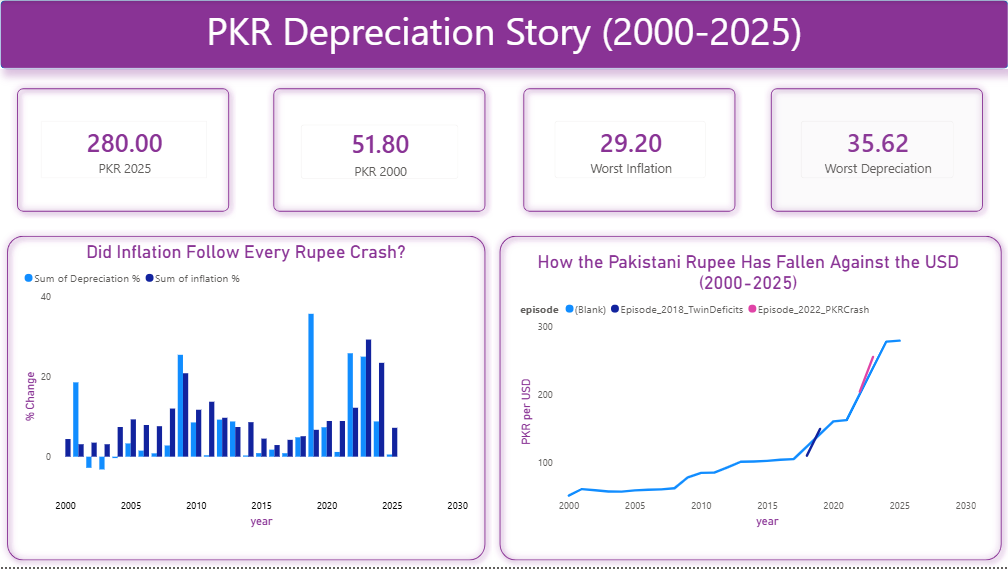

The page's visual inventory and layout, read from the dashboard file:
{"tool":"powerbi","page":{"name":"PKR Depreciation Story (2000-2025)","canvas":[1280,720],"ordinal":0},"visuals":[{"type":"lineChart","title":"How the Pakistani Rupee Has Fallen Against the USD (2000-2025)","fields":{"Category":["pkr_analysis economic_indicators.year"],"Y":["Sum(pkr_analysis economic_indicators.pkr_per_usd)"],"Series":["pkr_analysis depreciation_episodes.episode"]},"box":[655.2,318.9,588.6,355.4],"z":0},{"type":"shape","box":[0,0,1280.3,87.8],"z":1000},{"type":"textbox","box":[0,0,1280.3,87.3],"z":2000},{"type":"clusteredColumnChart","title":"Did Inflation Follow Every Rupee Crash?","fields":{"Category":["pkr_analysis economic_indicators.year"],"Y":["Sum(pkr_analysis economic_indicators.yoy_depreciation_pct)","Sum(pkr_analysis economic_indicators.inflation_cpi_pct)"]},"box":[25.4,306.2,574.3,368.1],"z":3000},{"type":"cardVisual","fields":{"Data":["pkr_analysis economic_indicators.Worst Depreciation"]},"box":[999.5,136.4,228.5,107.9],"z":4000},{"type":"cardVisual","fields":{"Data":["pkr_analysis economic_indicators.Worst Inflation"]},"box":[687,136.4,226.9,107.9],"z":5000},{"type":"cardVisual","fields":{"Data":["pkr_analysis economic_indicators.PKR 2000"]},"box":[364.9,141.2,234.8,103.1],"z":6000},{"type":"cardVisual","fields":{"Data":["pkr_analysis economic_indicators.PKR 2025"]},"box":[34.9,136.4,245.9,107.9],"z":7000},{"type":"shape","box":[12.7,103.1,287.2,174.5],"z":8000},{"type":"shape","box":[337.9,103.1,287.2,174.5],"z":9000},{"type":"shape","box":[655.2,103.1,287.2,174.5],"z":10000},{"type":"shape","box":[969.4,103.1,287.2,174.5],"z":11000},{"type":"shape","box":[625.1,290.3,655.2,429.9],"z":12000},{"type":"shape","box":[0,290.3,625.1,429.9],"z":13000}]}

Visuals, with their boxes in screenshot pixels (x1, y1, x2, y2), scaled from the page's 1280x720 canvas onto the 1008x570 screenshot:
"How the Pakistani Rupee Has Fallen Against the USD (2000-2025)" lineChart: 516:252:979:534
shape: 0:0:1007:70
textbox: 0:0:1007:69
"Did Inflation Follow Every Rupee Crash?" clusteredColumnChart: 20:242:472:534
cardVisual - pkr_analysis economic_indicators.Worst Depreciation: 787:108:967:193
cardVisual - pkr_analysis economic_indicators.Worst Inflation: 541:108:720:193
cardVisual - pkr_analysis economic_indicators.PKR 2000: 287:112:472:193
cardVisual - pkr_analysis economic_indicators.PKR 2025: 27:108:221:193
shape: 10:82:236:220
shape: 266:82:492:220
shape: 516:82:742:220
shape: 763:82:990:220
shape: 492:230:1007:569
shape: 0:230:492:569
